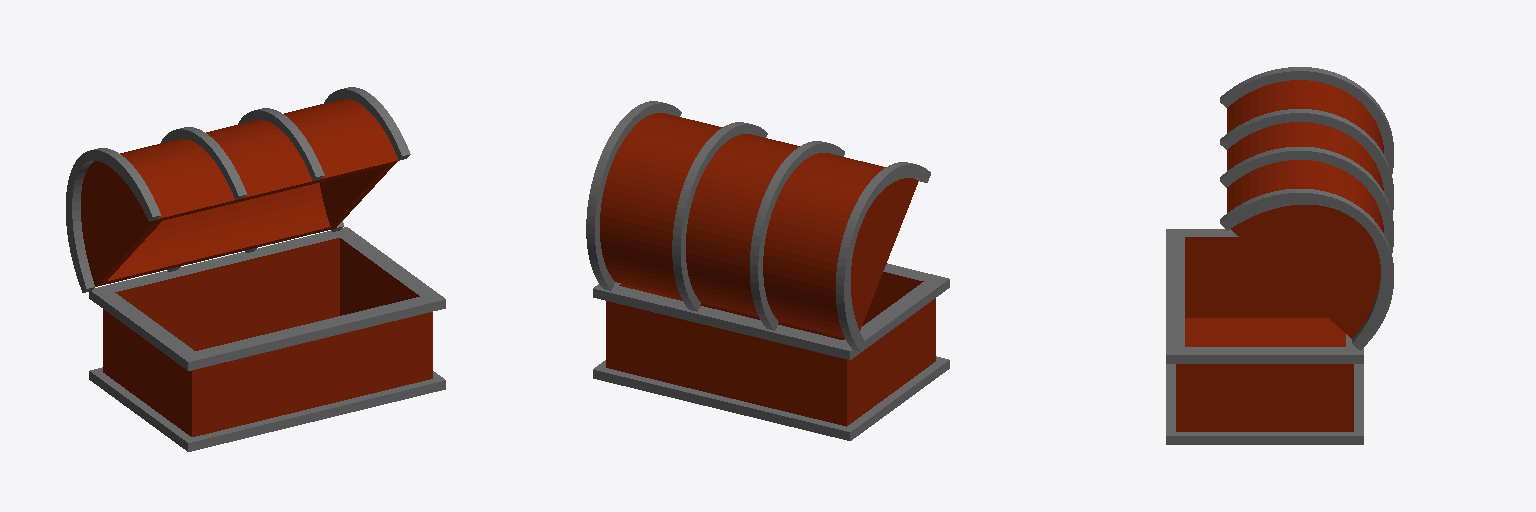
The model's file is Chest.obj.
The picture shows the model from 3 angles: view 1: azimuth 30°, elevation 25°; view 2: azimuth 150°, elevation 25°; view 3: azimuth 270°, elevation 25°; orthographic projection.
Parts seen in each view (by area): view 1: obj_0.001, obj_0.002; view 2: obj_0.002, obj_0.001; view 3: obj_0.002, obj_0.001.
Part boxes in pixels (x1,y1,x2,y2): obj_0.001: (89,227,445,451); obj_0.002: (66,87,410,292); obj_0.002: (586,101,930,351); obj_0.001: (593,263,949,440); obj_0.002: (1220,67,1393,350); obj_0.001: (1166,229,1363,444).
Size of the model in its own units: 31 by 27.57 by 23.